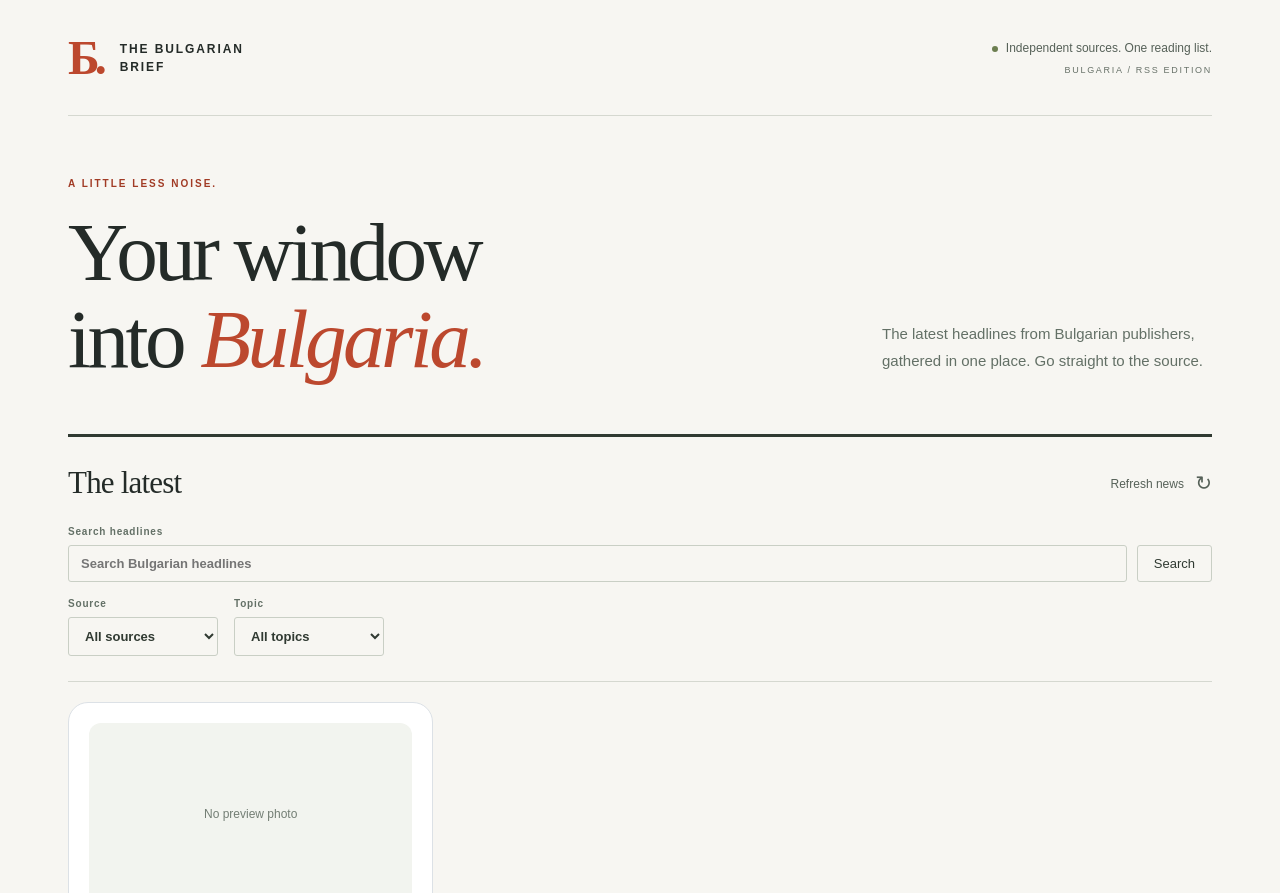
Test: news feed › submits a headline search, retains it on pagination, and clears it with filters
In the search field labelled "Search headlines": {"x": 597, "y": 564} top-left (68, 545), bottom-right (1127, 582), type "София"
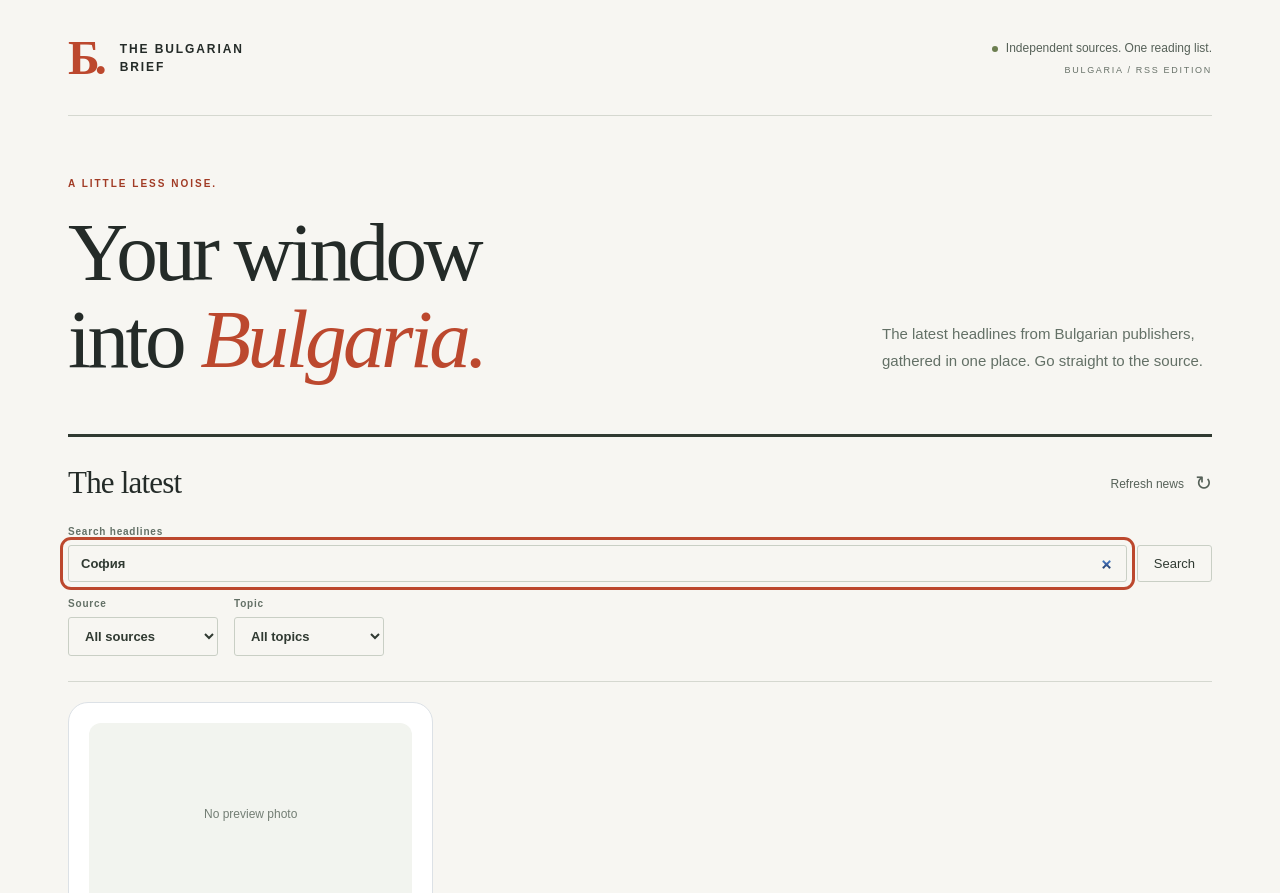
Click the button "Search": {"x": 1174, "y": 564} top-left (1137, 545), bottom-right (1212, 582)
(page scrolled)
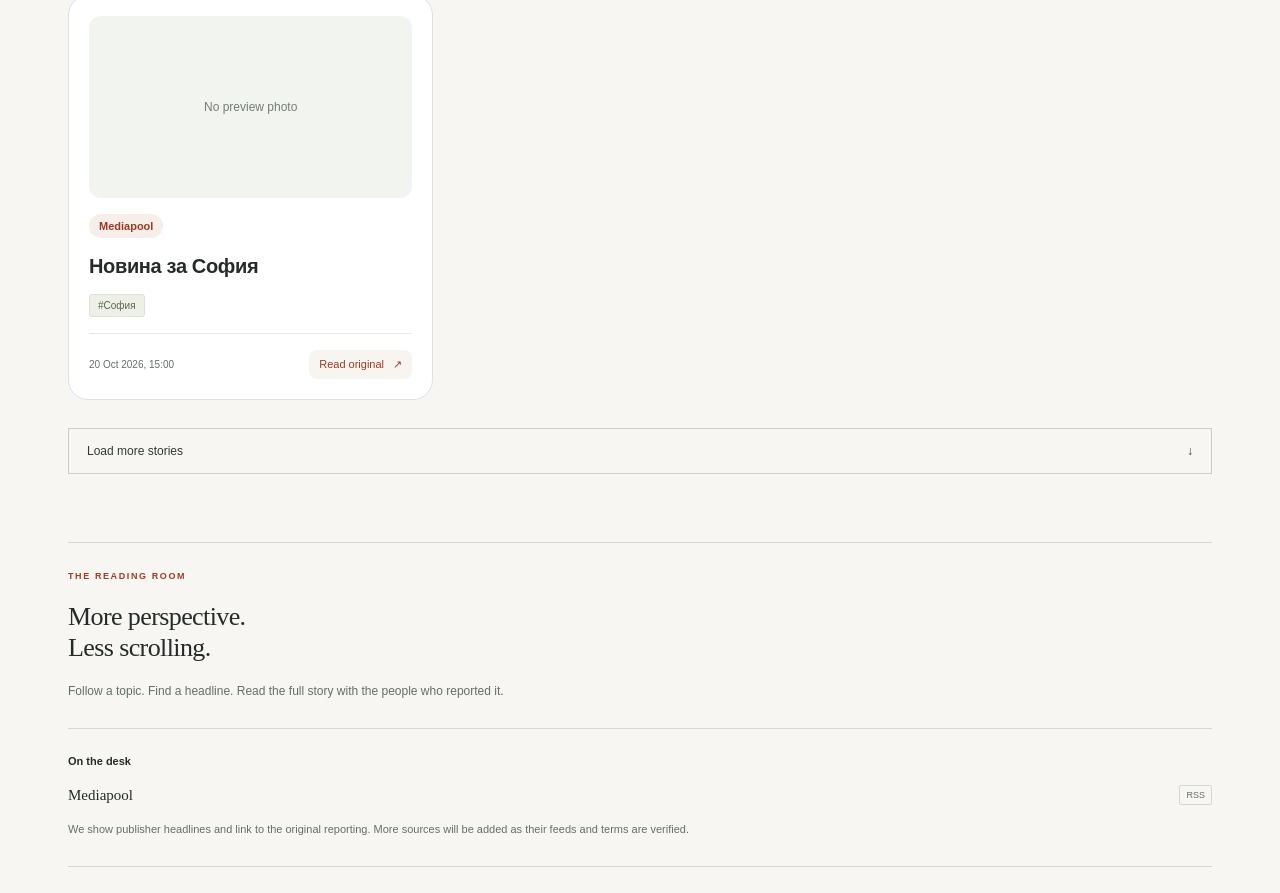
Now the link "Новина за София" is shown, box top-left (89, 255), bottom-right (258, 277)
Click the button "Load more stories ↓": {"x": 135, "y": 451} top-left (68, 428), bottom-right (1212, 474)
(page scrolled)
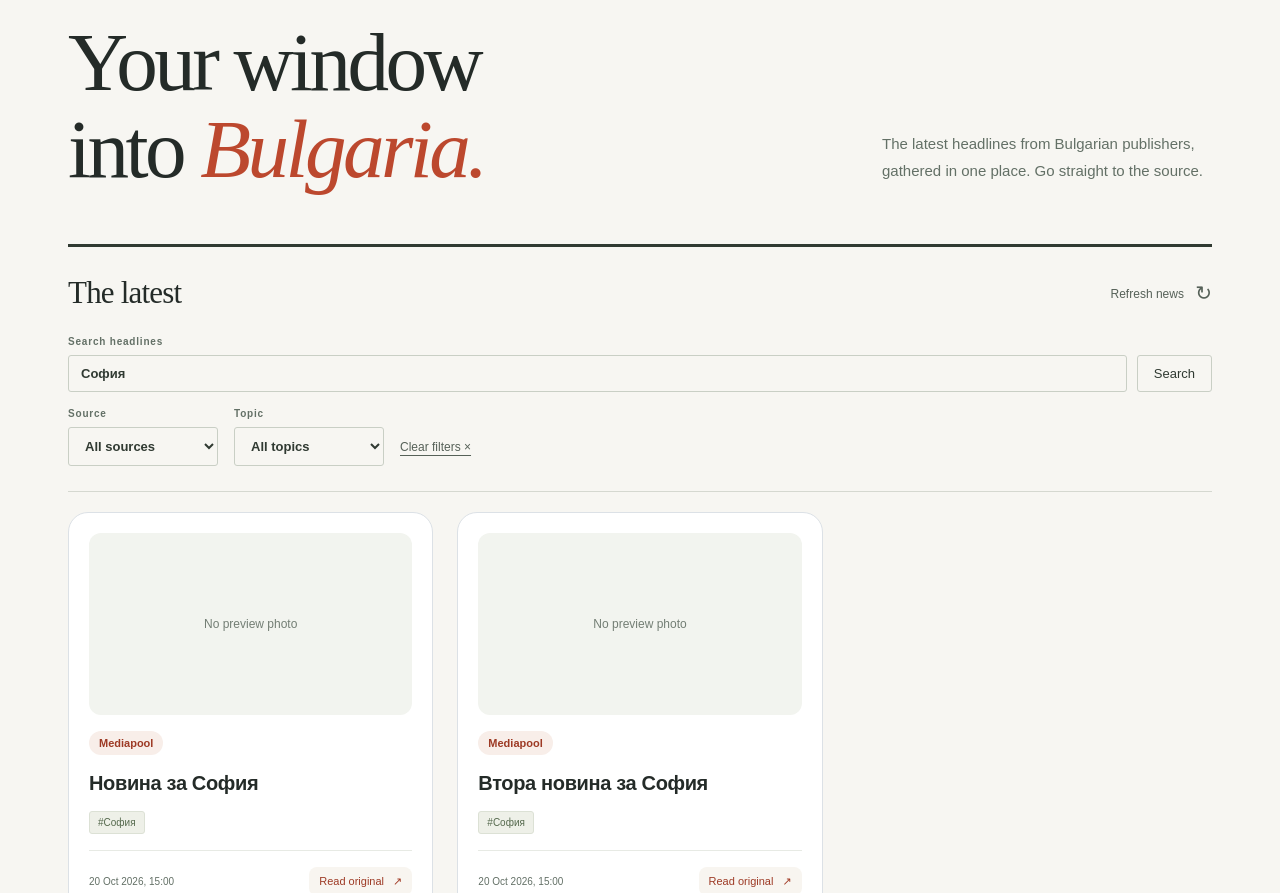
Now the link "Втора новина за София" is shown, box top-left (478, 772), bottom-right (708, 794)
Click the button "Clear filters ×": {"x": 436, "y": 451} top-left (400, 435), bottom-right (471, 466)
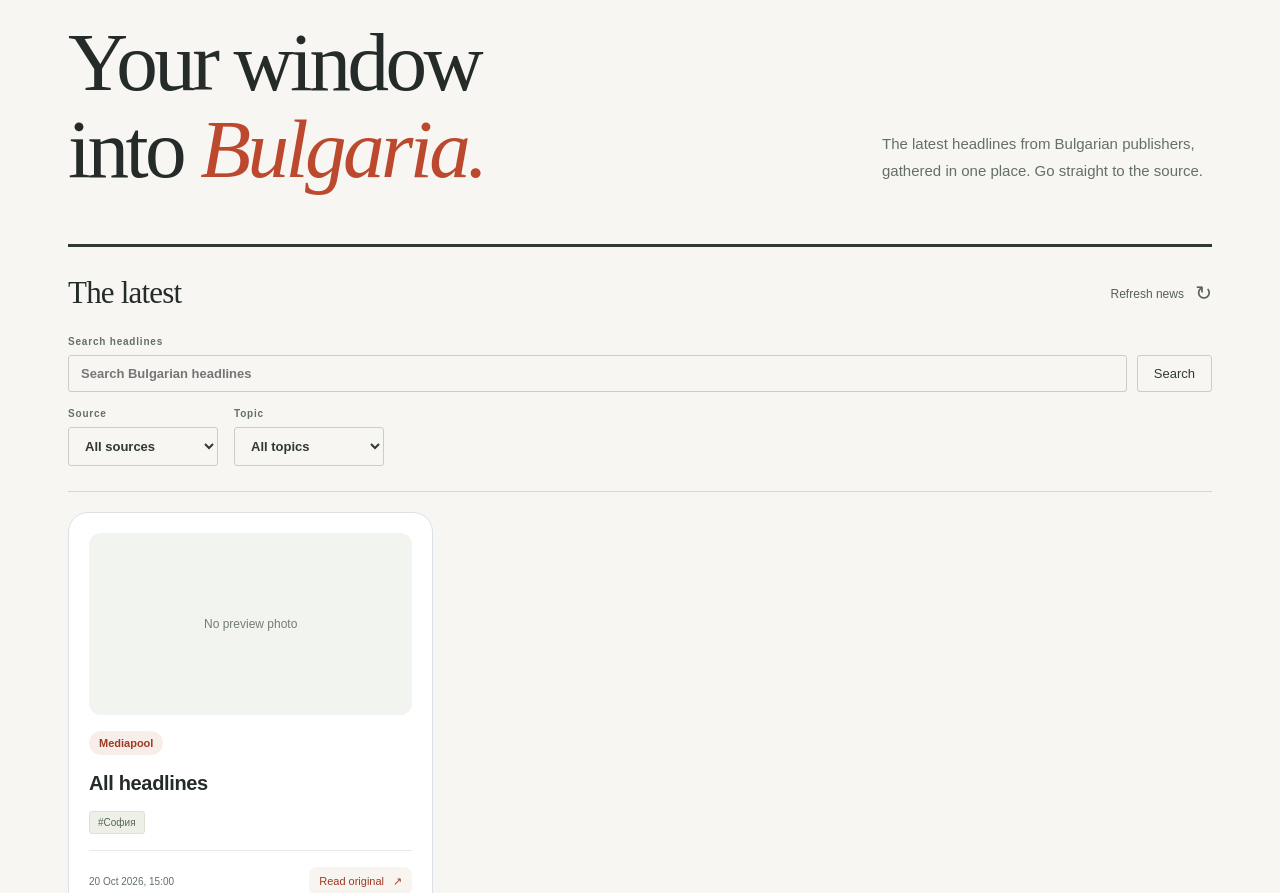
Now the link "All headlines" is shown, box top-left (89, 772), bottom-right (208, 794)
Now the search field labelled "Search headlines" is empty, box top-left (68, 355), bottom-right (1127, 392)
